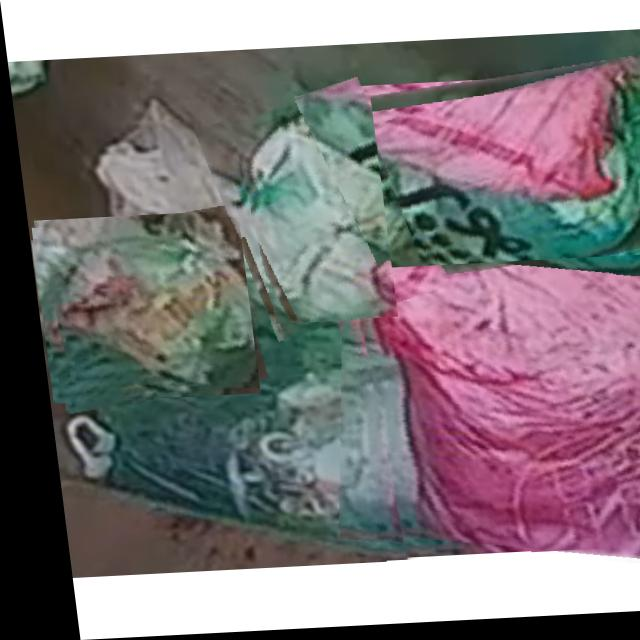general_trashbag: (323, 63, 640, 270), (46, 214, 246, 390), (243, 99, 369, 324)
other_trashbag: (342, 156, 640, 568)
